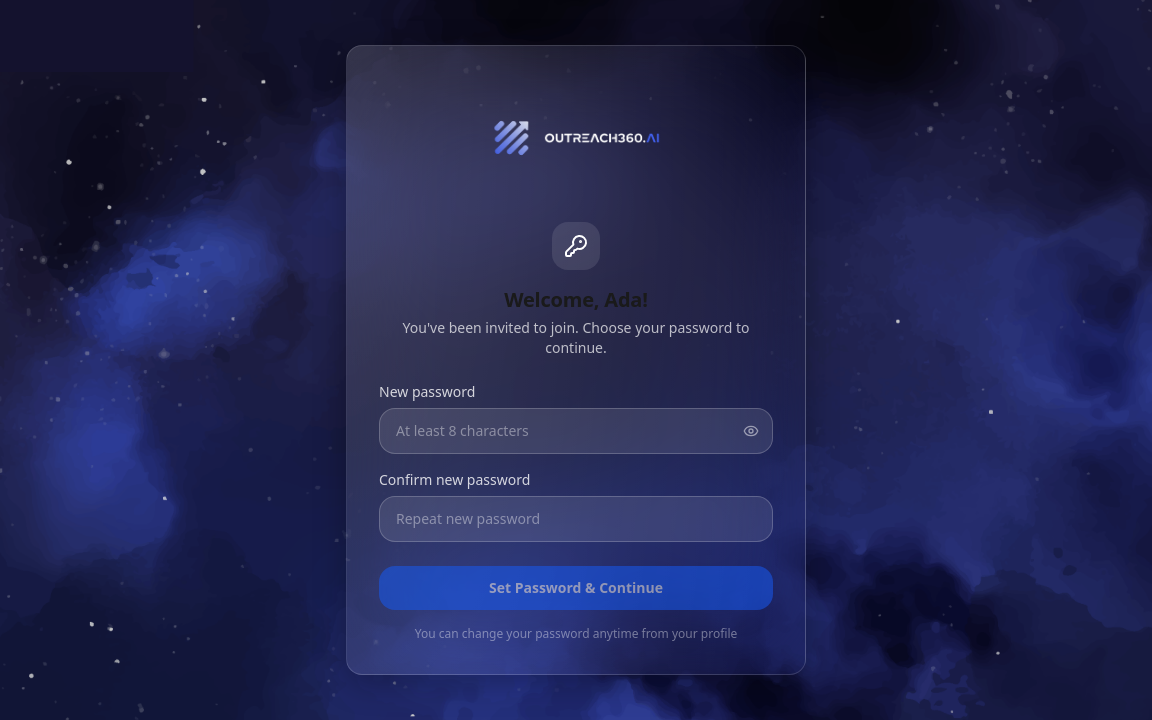
it: SetPassword page › welcomes the invited user and sets the first password
This screenshot has width=1152, height=720.
Expected: the heading "Welcome, Ada!" is shown, [504, 286, 648, 313]
Type "longpassword" into the password field with placeholder "At least 8 characters" at (576, 431), box [379, 408, 773, 454]
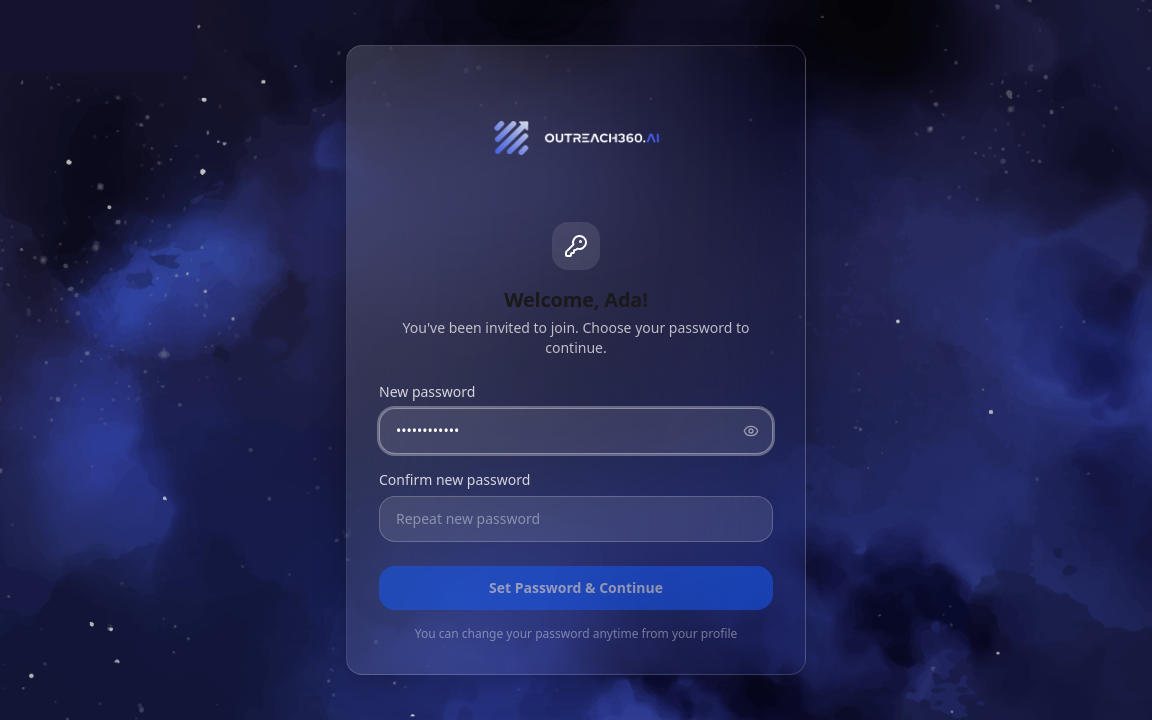
Type "longpassword" into the password field with placeholder "Repeat new password" at (576, 519), box [379, 496, 773, 542]
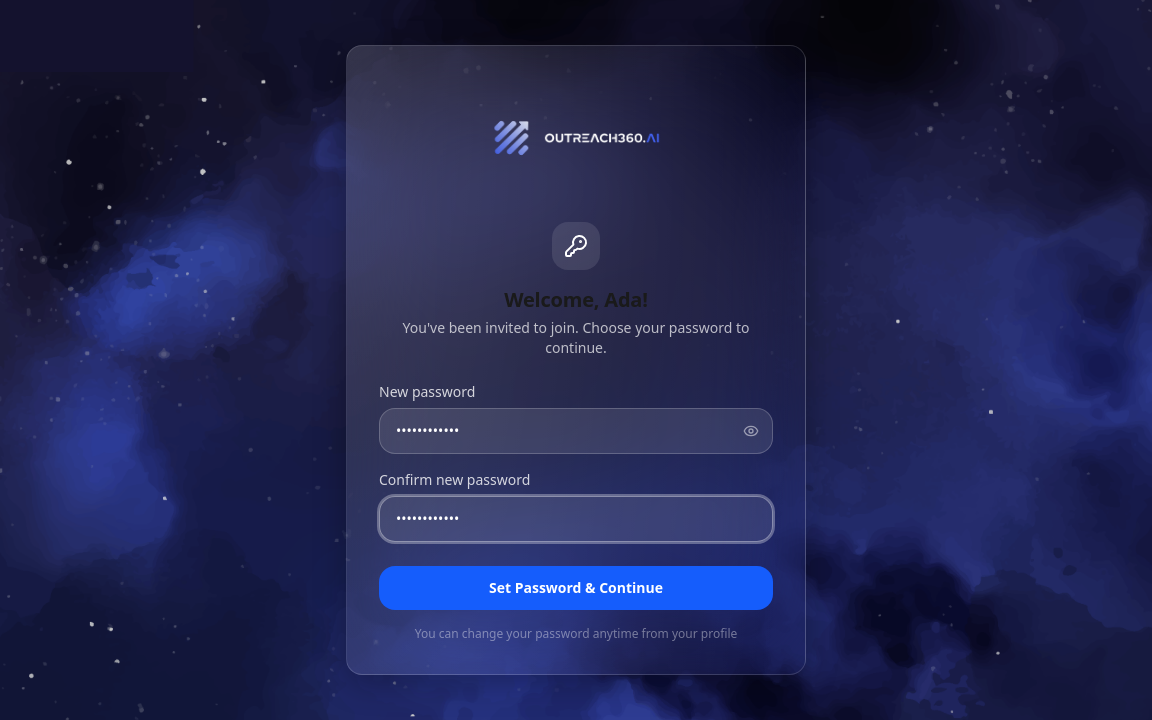
Click the button "Set Password & Continue" at (576, 588), box [379, 566, 773, 610]
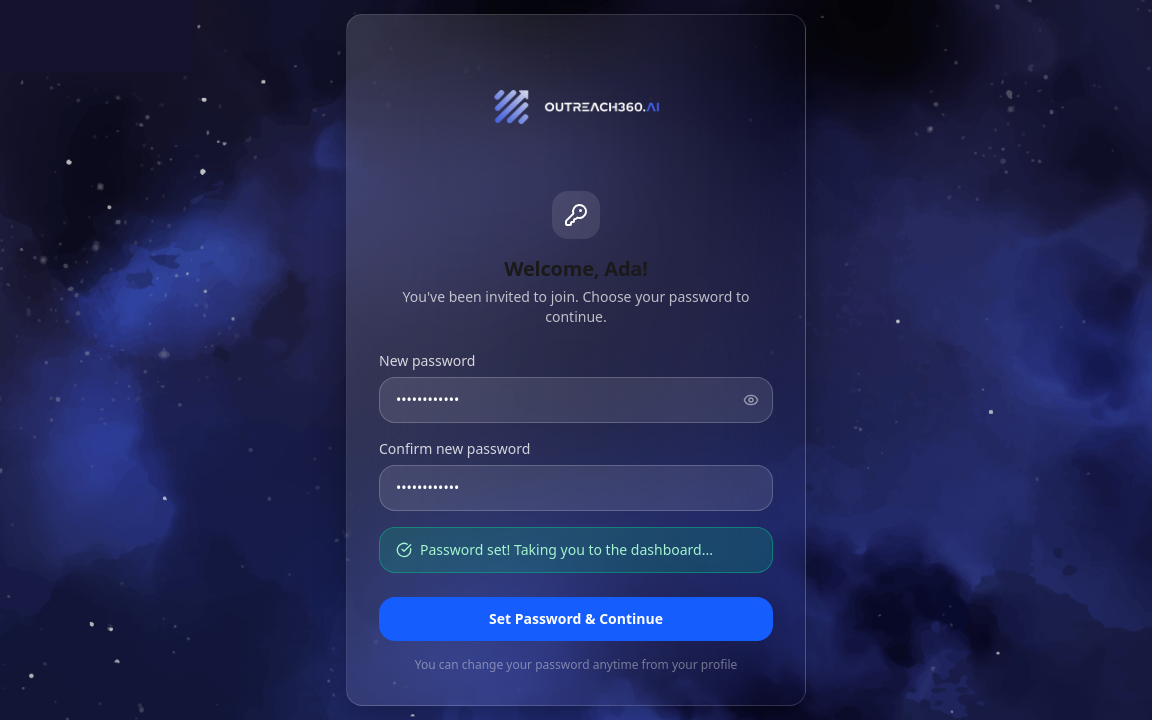
Now the text "Password set! Taking you to the dashboard..." is shown, box [379, 527, 773, 573]
